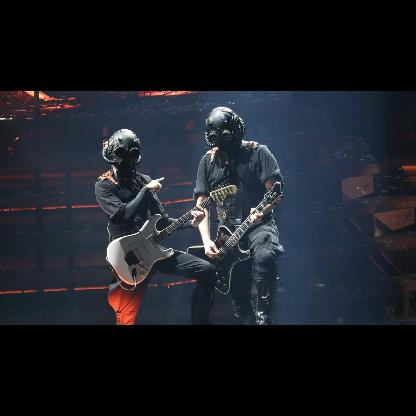guitar: (106, 181, 238, 285), (186, 180, 284, 294)
